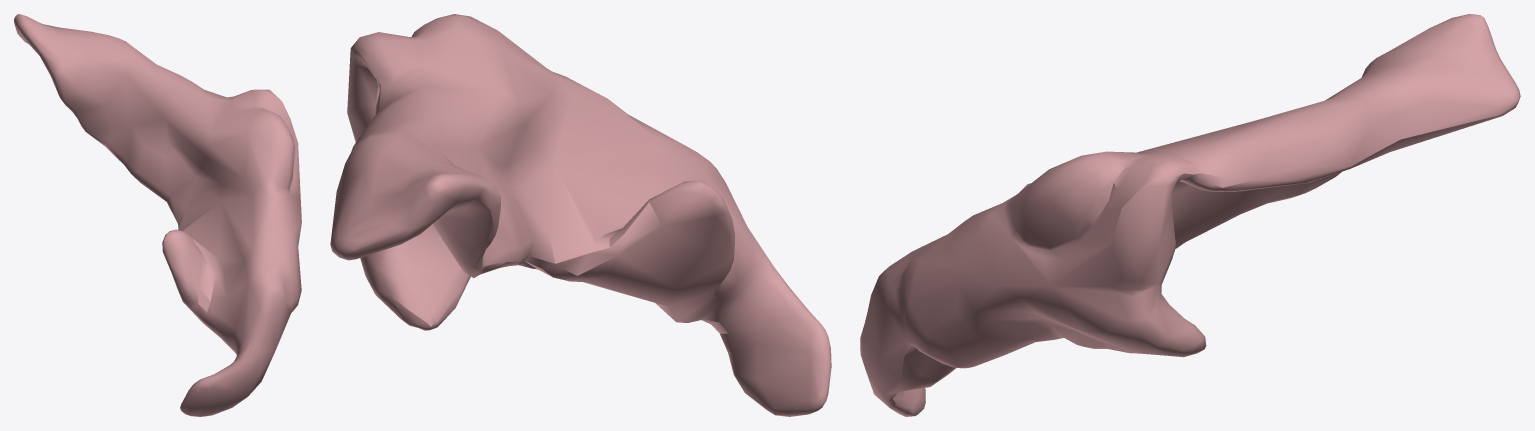
Rendered from fma72801_fj1837.glb.
The picture shows the model from 3 angles, left to right: view 1: azimuth 30°, elevation 25°; view 2: azimuth 150°, elevation 25°; view 3: azimuth 270°, elevation 25°; orthographic projection. The views are drawn at different scales.
Visible parts, largest first — view 1: FMA72801_FJ1837; view 2: FMA72801_FJ1837; view 3: FMA72801_FJ1837.
Part boxes in pixels (x1,y1,x2,y2): FMA72801_FJ1837: [14, 14, 301, 416]; FMA72801_FJ1837: [330, 14, 831, 416]; FMA72801_FJ1837: [860, 14, 1520, 416].
Size of the model in its own units: 0.0358 by 0.0489 by 0.0738.
